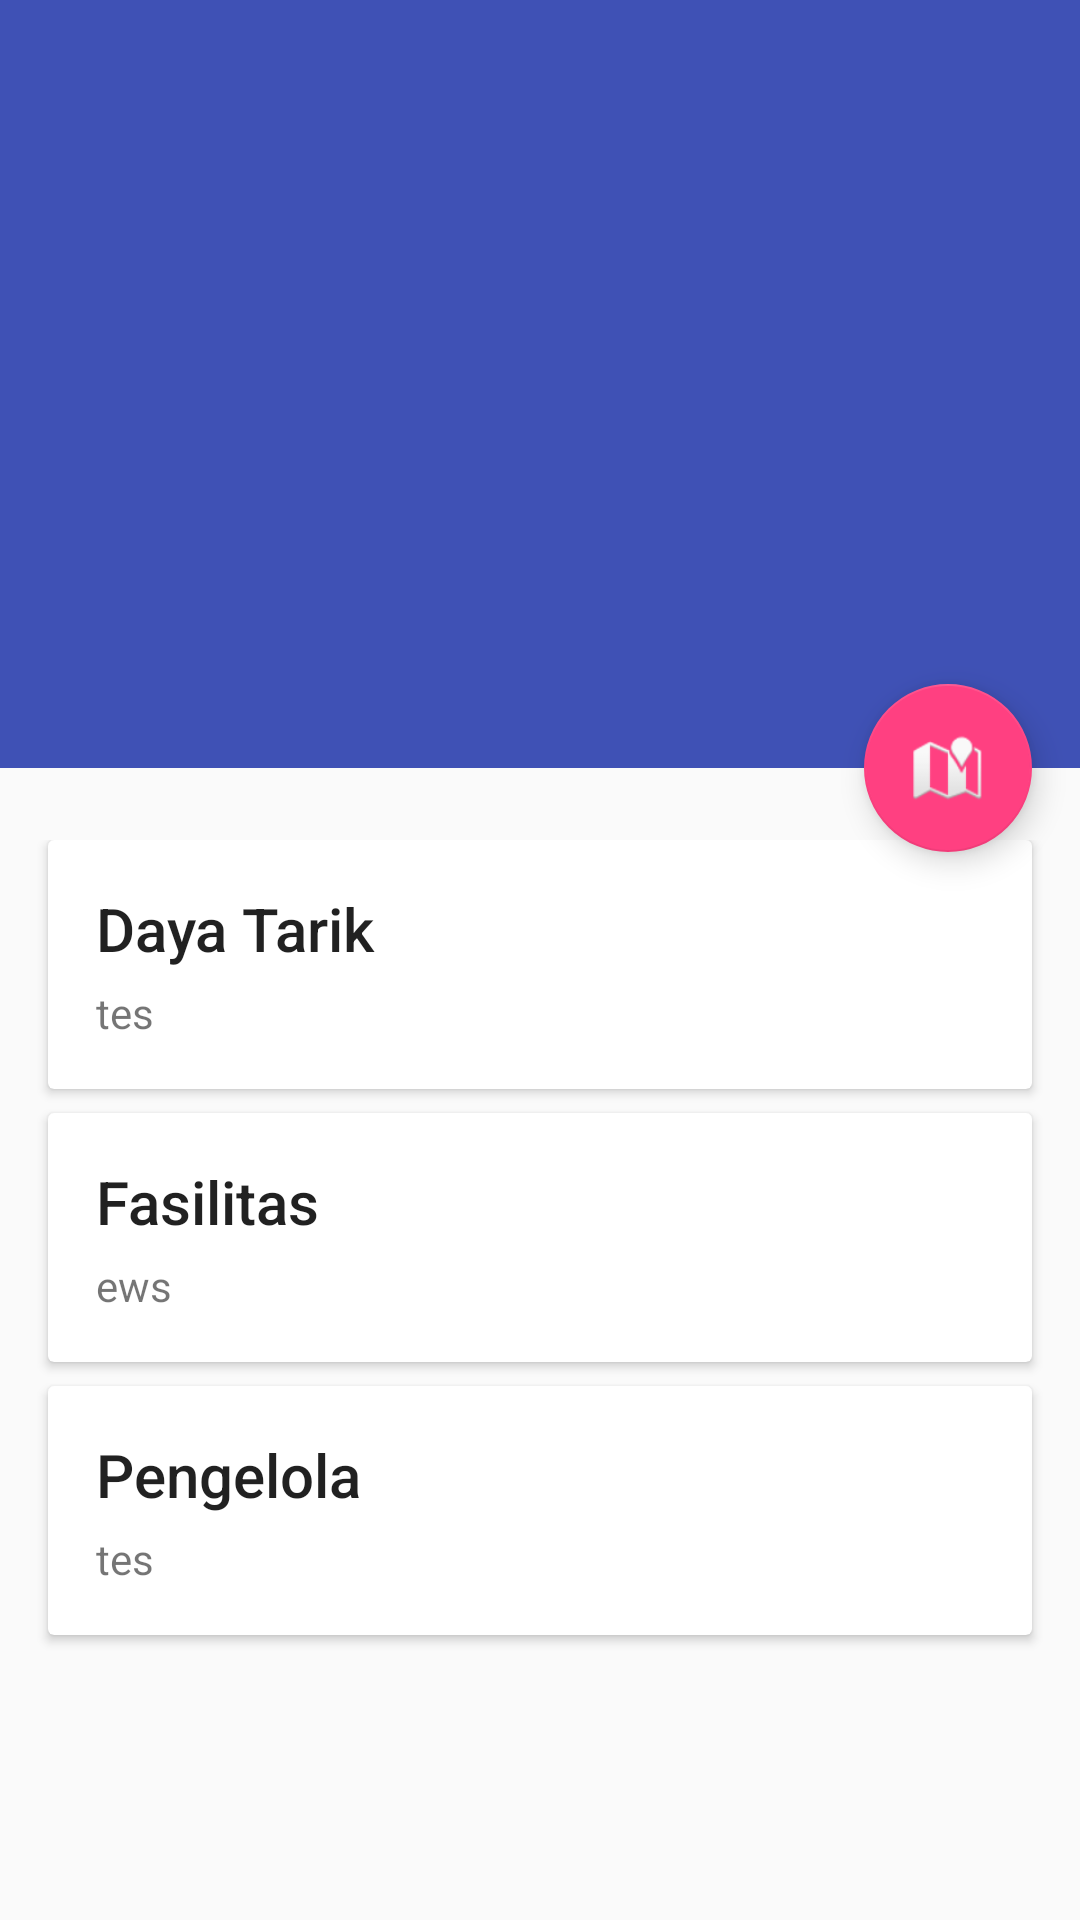

Point at icon controls on the screen. Image size 1080 × 1920, points as (x=x, y=y).
map: (x=948, y=768)
